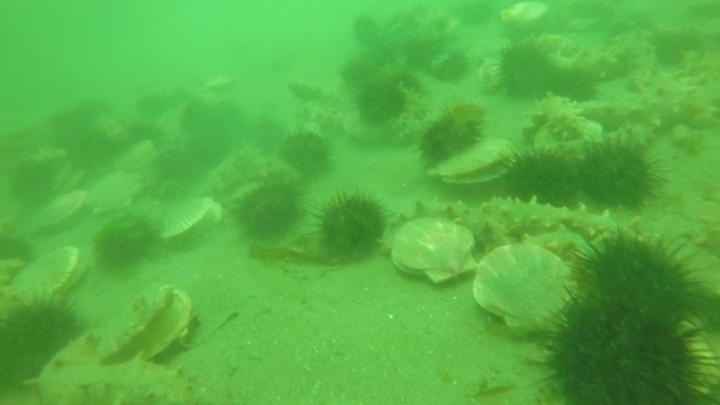echinus: (534, 292, 715, 405), (567, 227, 709, 337), (572, 136, 665, 214), (1, 301, 79, 379), (311, 189, 391, 264), (500, 145, 583, 211), (49, 106, 118, 174), (416, 105, 487, 169), (232, 179, 304, 242), (92, 211, 161, 273), (494, 40, 559, 102), (351, 78, 408, 130), (6, 157, 60, 210), (278, 128, 334, 179), (110, 130, 165, 178), (547, 65, 600, 106), (151, 144, 196, 186), (377, 60, 428, 96), (577, 102, 629, 136), (429, 47, 472, 86), (177, 98, 217, 137), (338, 53, 380, 89), (650, 35, 688, 71), (124, 119, 166, 151), (1, 231, 37, 268), (349, 14, 384, 49)
holothurian: (29, 338, 199, 405), (582, 72, 720, 151), (471, 194, 640, 249), (545, 29, 650, 85), (204, 141, 302, 197), (676, 46, 720, 132), (524, 93, 592, 146), (283, 70, 346, 109), (290, 100, 350, 134), (599, 121, 662, 153), (691, 197, 720, 261)
scallop: (28, 339, 199, 405), (470, 240, 577, 337), (93, 288, 192, 365), (387, 215, 479, 288), (6, 245, 87, 308), (427, 137, 522, 190), (674, 315, 719, 404), (154, 194, 224, 248), (25, 189, 94, 239), (85, 170, 147, 217), (499, 1, 552, 31), (475, 50, 508, 98)
